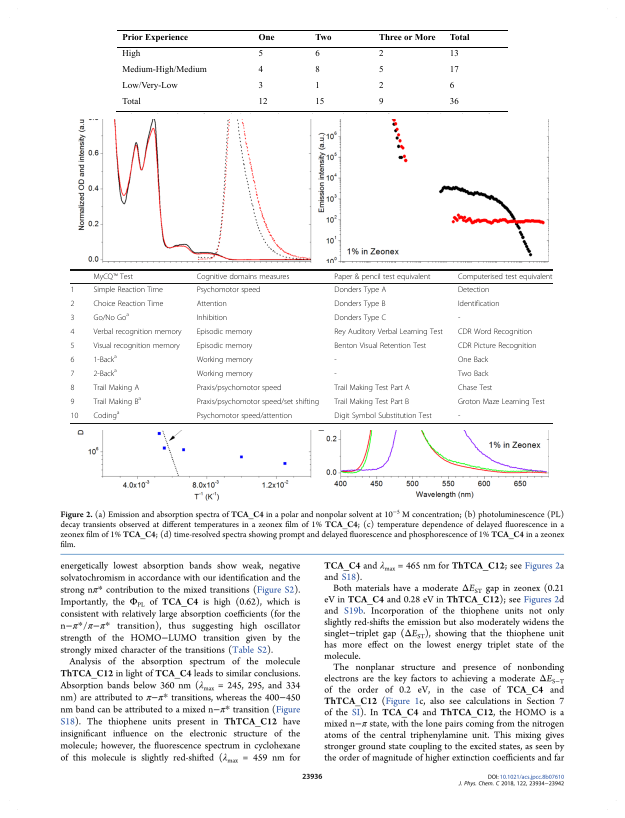borderless: (70, 268, 553, 423), (116, 28, 508, 111)
cell: (196, 397, 320, 407), (333, 327, 444, 337), (333, 411, 433, 421), (196, 411, 293, 421), (333, 341, 427, 351), (92, 327, 182, 337), (92, 341, 181, 351), (457, 397, 546, 407), (333, 272, 431, 281), (457, 272, 553, 281), (196, 383, 282, 393), (121, 65, 207, 75), (196, 272, 290, 281), (457, 341, 538, 351), (333, 383, 411, 393), (333, 397, 410, 407), (457, 327, 533, 337), (92, 285, 164, 295), (92, 299, 164, 309), (121, 32, 188, 42), (196, 285, 261, 295), (92, 395, 142, 407), (377, 32, 436, 42), (196, 355, 254, 365), (196, 369, 254, 379), (196, 327, 253, 337), (196, 341, 253, 351), (121, 81, 178, 91), (333, 285, 387, 295), (333, 313, 387, 323), (333, 299, 386, 309), (92, 383, 140, 393), (92, 311, 130, 323), (457, 299, 500, 309), (92, 272, 134, 281), (457, 383, 493, 393), (92, 409, 120, 421), (457, 285, 490, 295), (196, 299, 228, 309), (196, 313, 228, 323), (457, 355, 489, 365), (457, 369, 489, 379), (92, 353, 118, 365), (92, 367, 118, 379), (448, 32, 470, 42), (121, 49, 141, 59), (121, 97, 141, 107), (257, 32, 275, 42), (314, 32, 332, 42), (448, 49, 459, 59), (448, 65, 459, 75), (257, 97, 268, 107), (314, 97, 325, 107), (448, 97, 459, 107), (70, 411, 79, 421), (377, 49, 384, 59), (377, 65, 384, 75), (377, 81, 384, 91), (448, 81, 455, 91), (377, 97, 384, 107), (69, 285, 75, 295), (69, 299, 75, 309), (69, 313, 75, 323), (257, 49, 263, 59), (314, 49, 320, 59), (257, 65, 263, 75), (314, 65, 320, 75), (257, 81, 263, 91), (314, 81, 320, 91), (70, 327, 75, 337), (70, 341, 75, 351), (70, 355, 75, 365), (333, 355, 338, 365), (70, 369, 75, 379), (333, 369, 338, 379), (70, 383, 75, 393), (70, 397, 75, 407), (457, 313, 461, 323), (457, 411, 461, 421)
